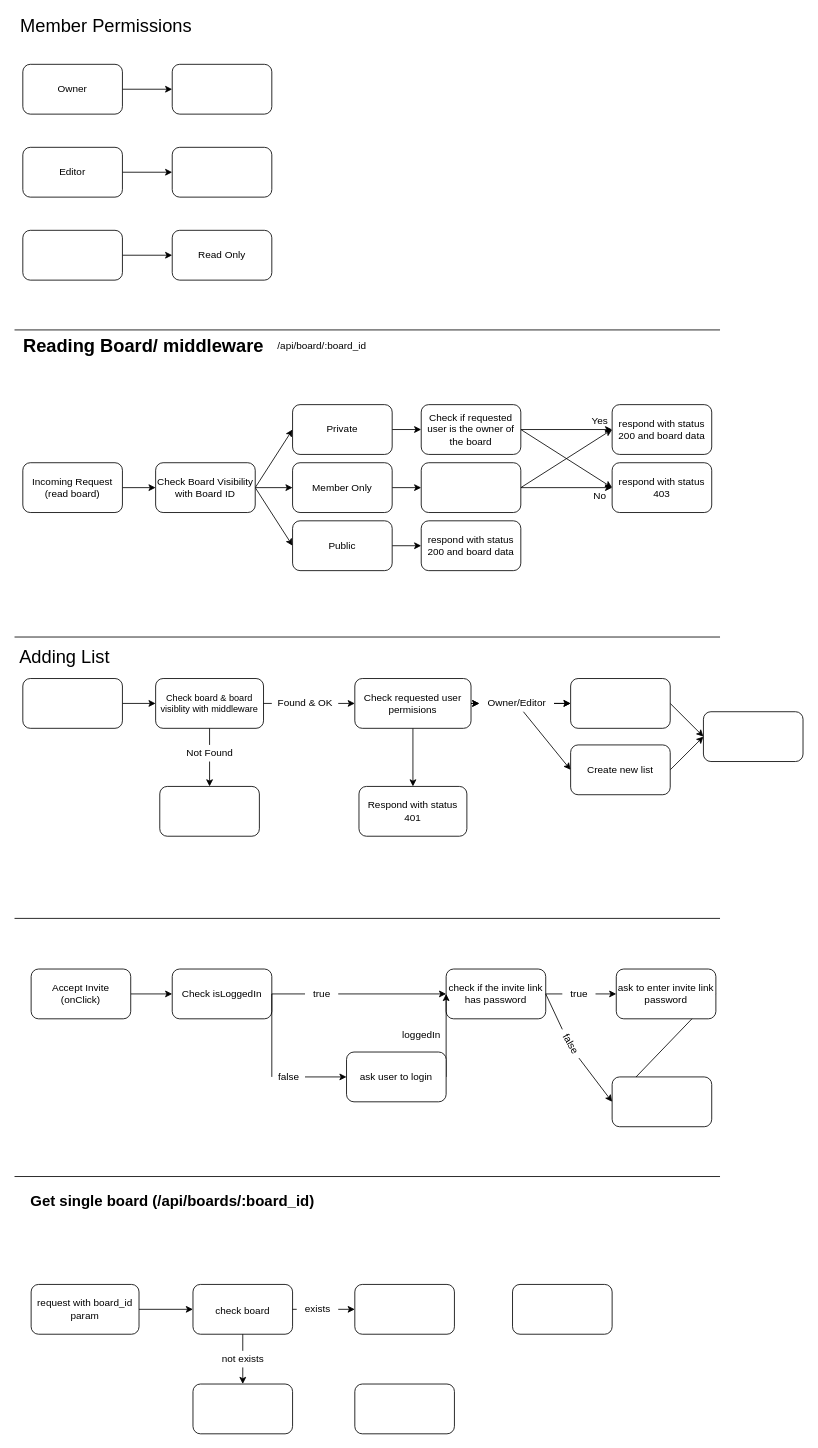
The diagram is 818 pixels wide and 1448 high, and some of its shapes have lost their labels. Each missing label, with the box of its shape:
check board visibility: (354, 1284, 454, 1334)
Check if requested user in the board member list: (420, 462, 521, 513)
Incoming Request to add list into board: (22, 678, 122, 728)
Member / Visibility Public: (22, 229, 122, 280)
push loggedin user into board_members: (611, 1076, 712, 1127)
Push to board's lists: (570, 678, 670, 728)
Read/Wrte/ Update/Delete: (171, 146, 272, 197)
Read/Wrte/ Update/Delete Board Settings: (171, 63, 272, 114)
Respond with Status 200 and data: (703, 711, 803, 762)
respond with status 404: (159, 786, 259, 836)
respond with status 404 (not found): (192, 1383, 293, 1434)
